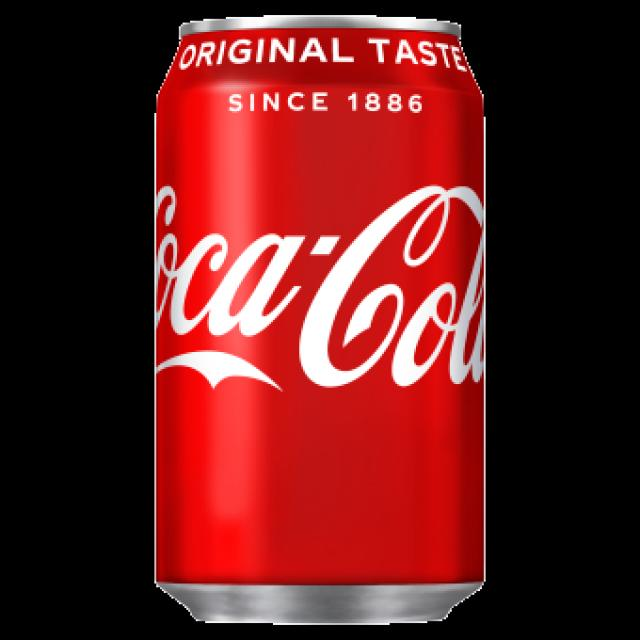cocacola: (148, 14, 490, 634)
